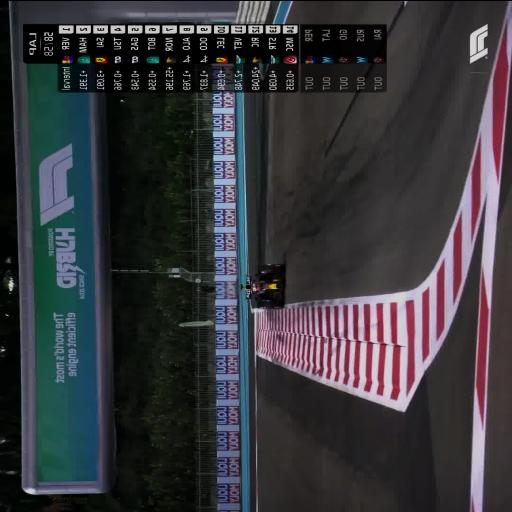f1_car: (240, 263, 284, 308)
